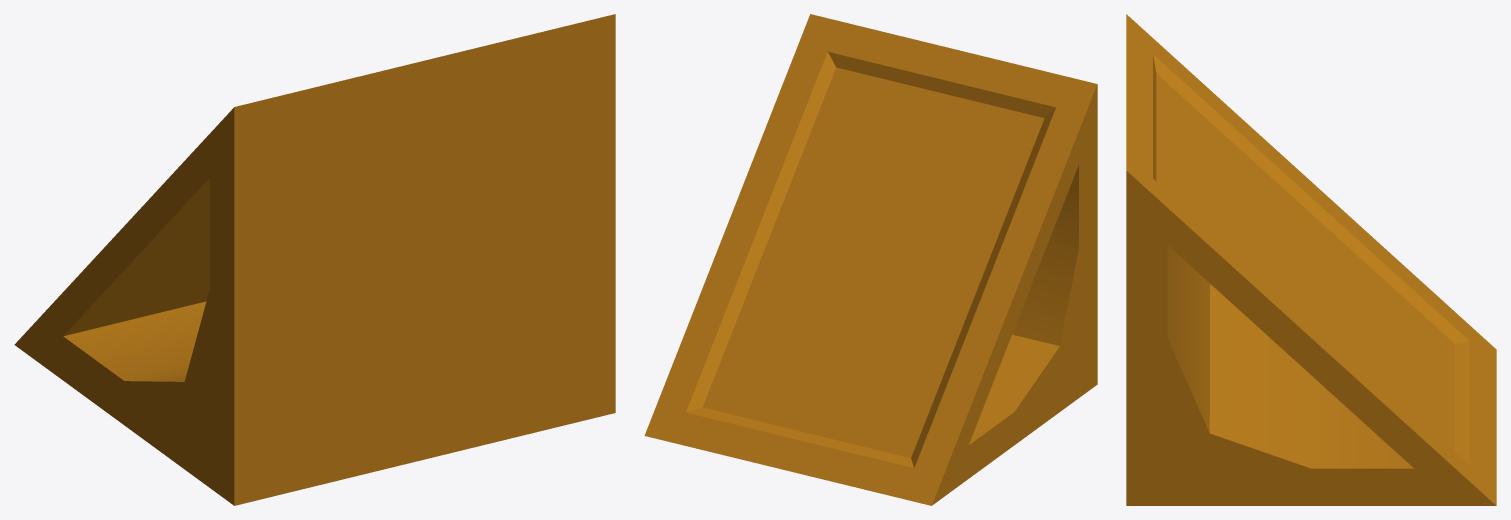
File: stone_ramp_4x4.fbx
3 renders of one model, left to right at view 1: azimuth 30°, elevation 25°; view 2: azimuth 150°, elevation 25°; view 3: azimuth 270°, elevation 25°, orthographic. The views are drawn at different scales.
Parts seen in each view (by area): view 1: stone_ramp_4x4; view 2: stone_ramp_4x4; view 3: stone_ramp_4x4.
Part boxes in pixels (left/top/right/bottom): stone_ramp_4x4: left=14, top=14, right=615, bottom=505; stone_ramp_4x4: left=644, top=14, right=1097, bottom=505; stone_ramp_4x4: left=1126, top=14, right=1496, bottom=505.
Size of the model in its own units: 18.2 by 18.2 by 18.2.
